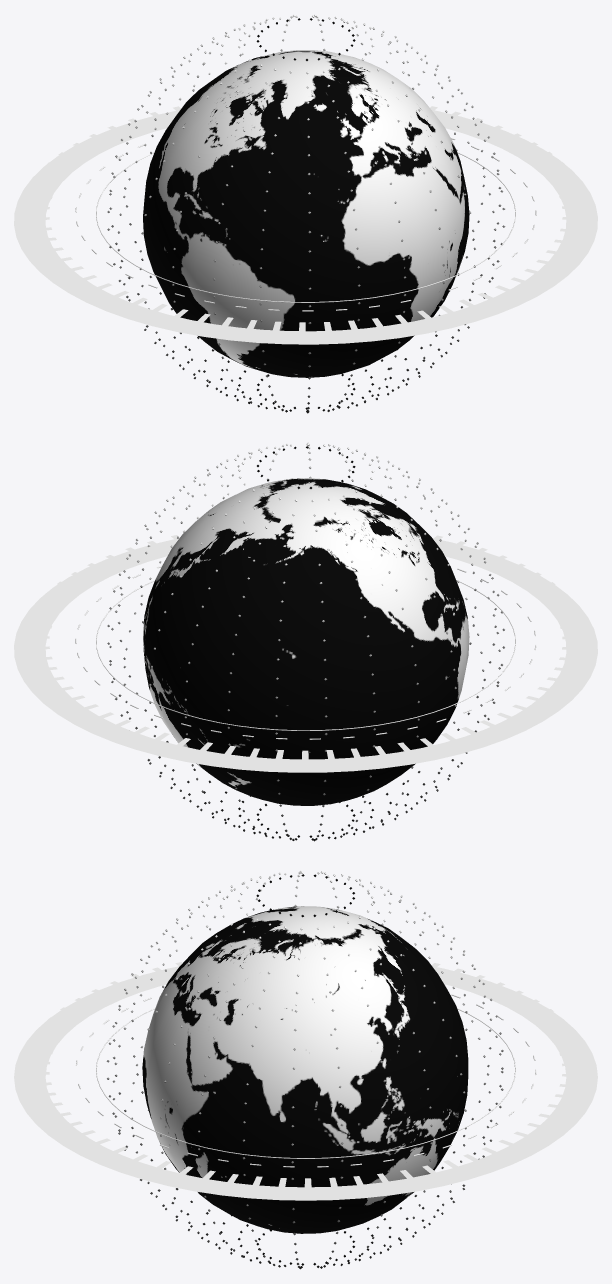
The picture shows the model from 3 angles, top to bottom: view 1: azimuth 30°, elevation 25°; view 2: azimuth 150°, elevation 25°; view 3: azimuth 270°, elevation 25°; orthographic projection.
Visible parts, largest first — view 1: Globe, Tube002, Tube001, Sphere001, Torus001; view 2: Globe, Tube002, Tube001, Sphere001, Torus001, Torus002; view 3: Globe, Tube002, Tube001, Sphere001, Torus001.
Boxes of the visible parts, x1=… form: Globe: x1=143, y1=50, x2=469, y2=377; Tube002: x1=14, y1=110, x2=597, y2=344; Tube001: x1=21, y1=106, x2=590, y2=333; Sphere001: x1=107, y1=14, x2=505, y2=413; Torus001: x1=96, y1=152, x2=515, y2=302; Globe: x1=143, y1=478, x2=469, y2=805; Tube002: x1=14, y1=538, x2=597, y2=772; Tube001: x1=21, y1=535, x2=590, y2=762; Sphere001: x1=107, y1=442, x2=504, y2=841; Torus001: x1=96, y1=580, x2=515, y2=730; Torus002: x1=75, y1=566, x2=536, y2=739; Globe: x1=142, y1=906, x2=468, y2=1233; Tube002: x1=14, y1=966, x2=597, y2=1200; Tube001: x1=21, y1=962, x2=589, y2=1190; Sphere001: x1=106, y1=870, x2=503, y2=1269; Torus001: x1=96, y1=1008, x2=515, y2=1158.
Bounding box in the file's own units: 50.31 × 33.39 × 50.31.
Materials: 1 (1 with a texture image).
